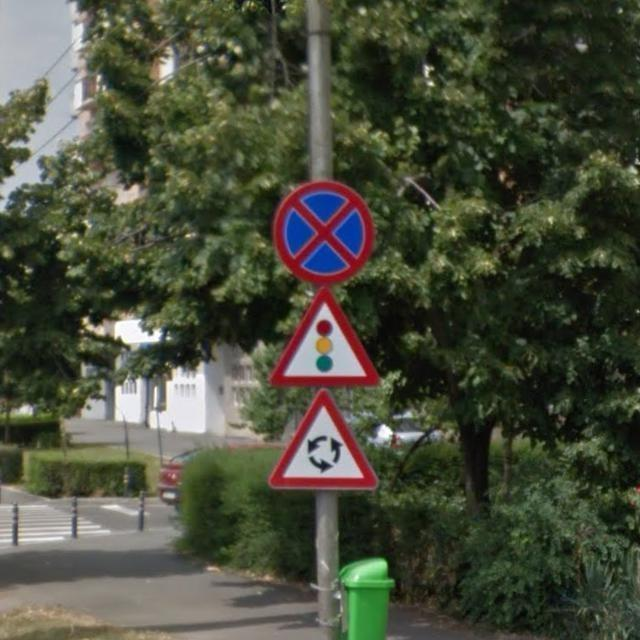forb_waiting: (272, 180, 372, 281)
